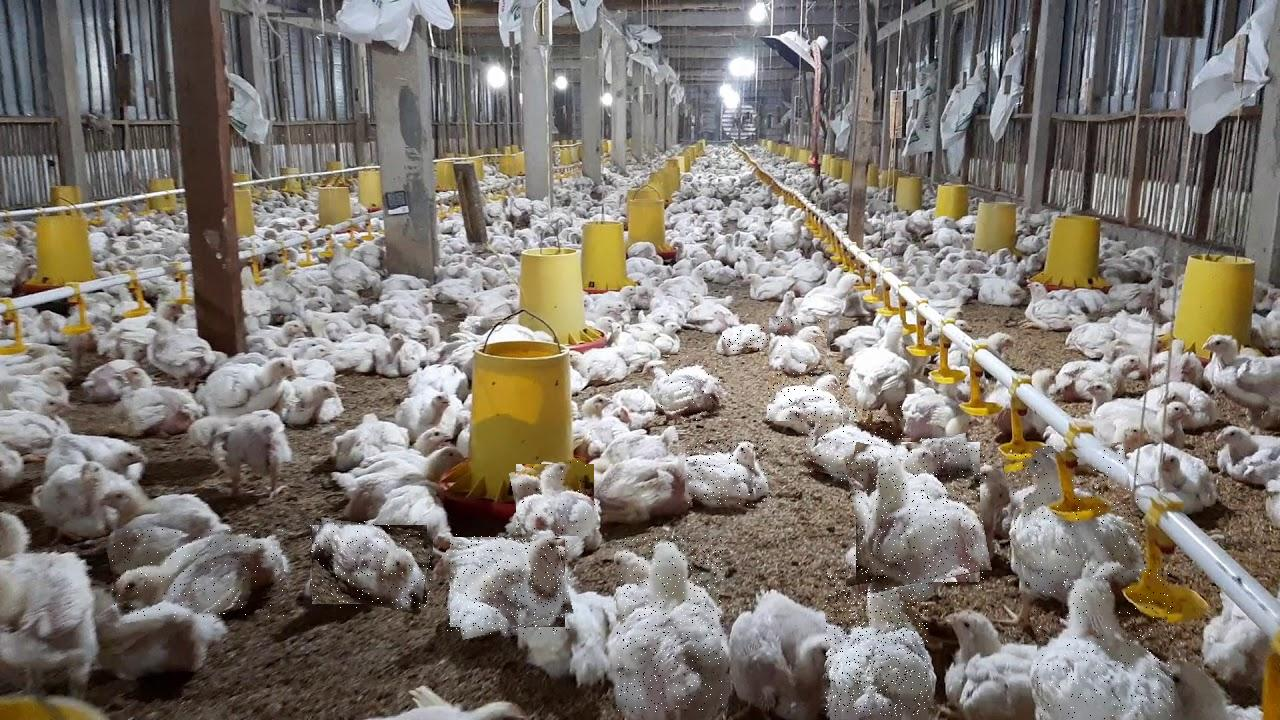chicken: (1034, 570, 1173, 719), (850, 439, 986, 589), (617, 535, 724, 712), (1008, 447, 1139, 585), (110, 530, 286, 618), (825, 571, 929, 716), (446, 533, 570, 635), (311, 522, 432, 610), (801, 405, 903, 482), (513, 461, 597, 539), (686, 441, 772, 507), (656, 356, 723, 423), (768, 371, 845, 423), (770, 317, 829, 373), (723, 326, 769, 351)
